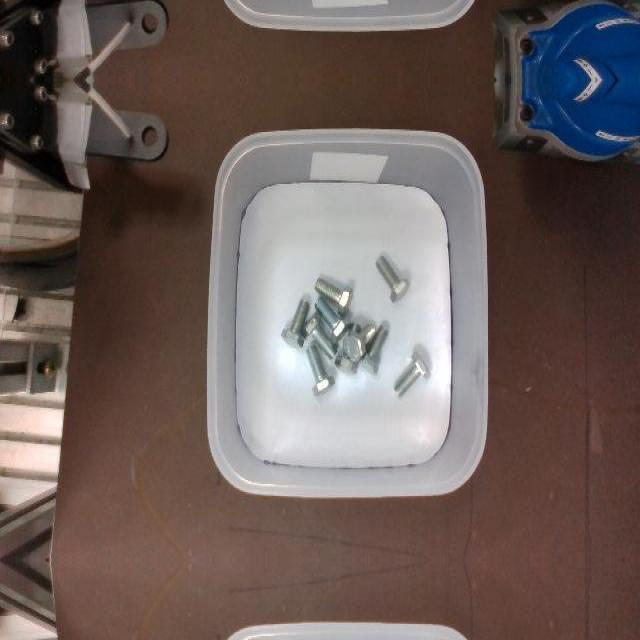screw: (314, 295, 350, 345), (392, 351, 430, 397), (301, 313, 337, 359), (375, 255, 410, 301), (306, 344, 335, 396), (314, 277, 353, 315), (281, 298, 310, 348), (343, 323, 375, 361)
